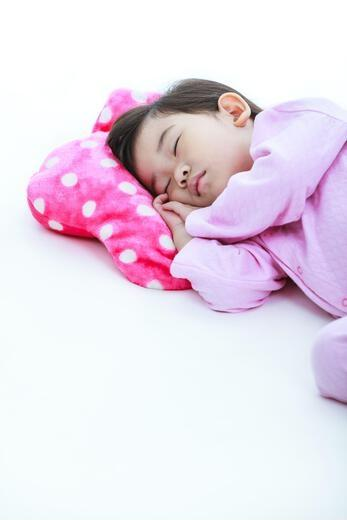Healthy: (102, 50, 272, 220)
